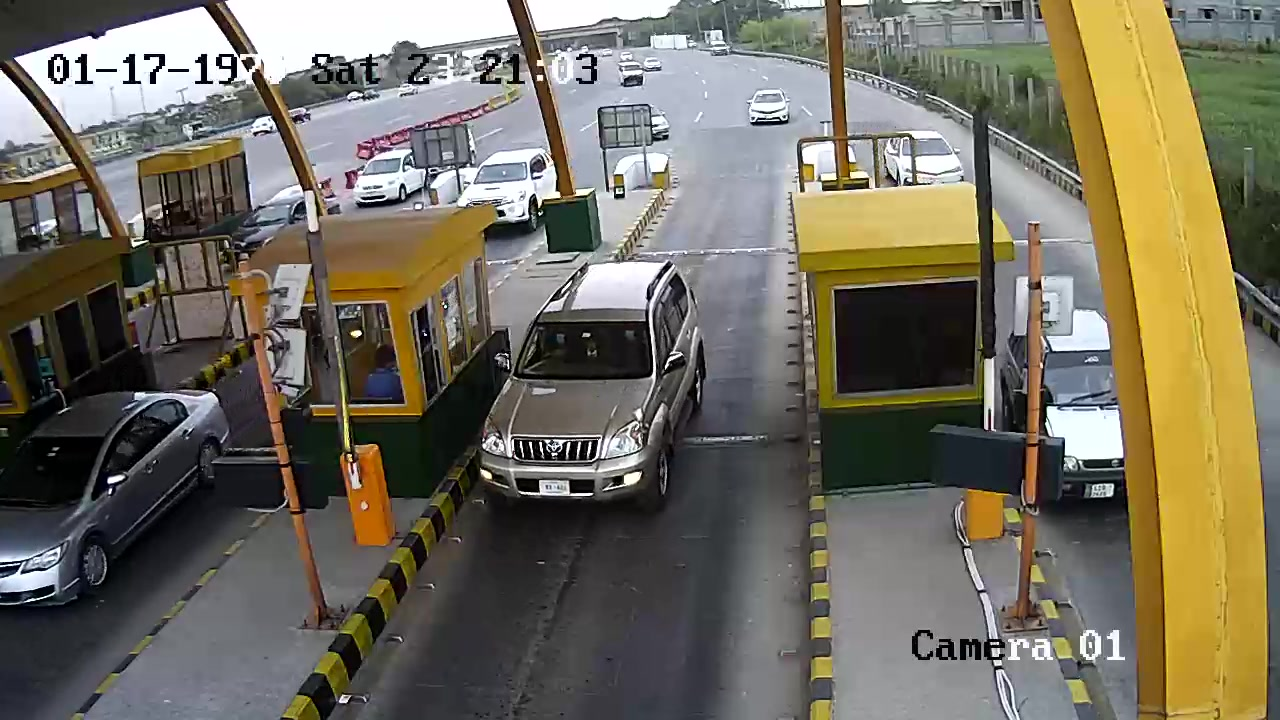F1: (471, 257, 718, 546)
